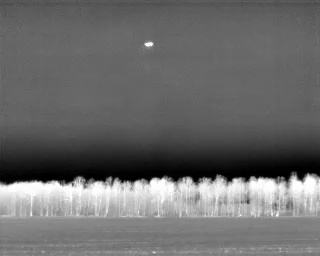DRONE: (141, 37, 158, 53)
